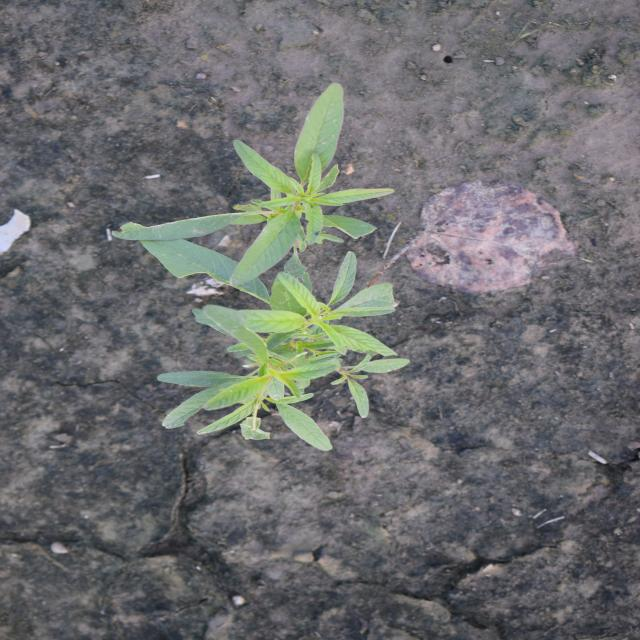Waterhemp: (106, 81, 415, 454)
